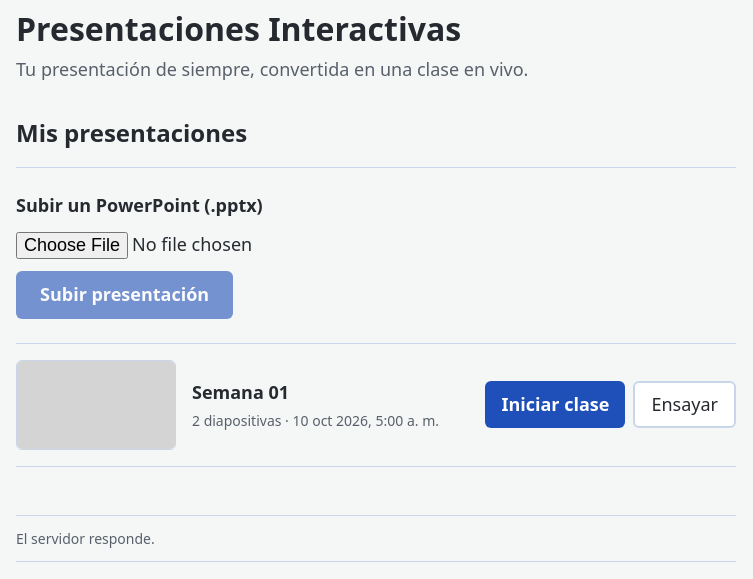
Test: "Iniciar clase" opens a session and goes to its lobby
Click the button with aria-label "Iniciar clase con Semana 01" at (555, 405), box [485,381,625,428]
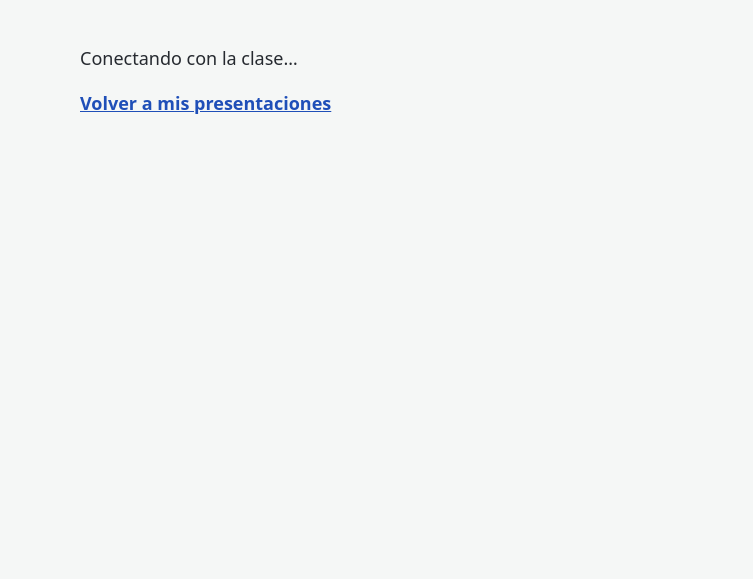
expect the text "Conectando con la clase…" is shown: met, box [80,46,298,70]
